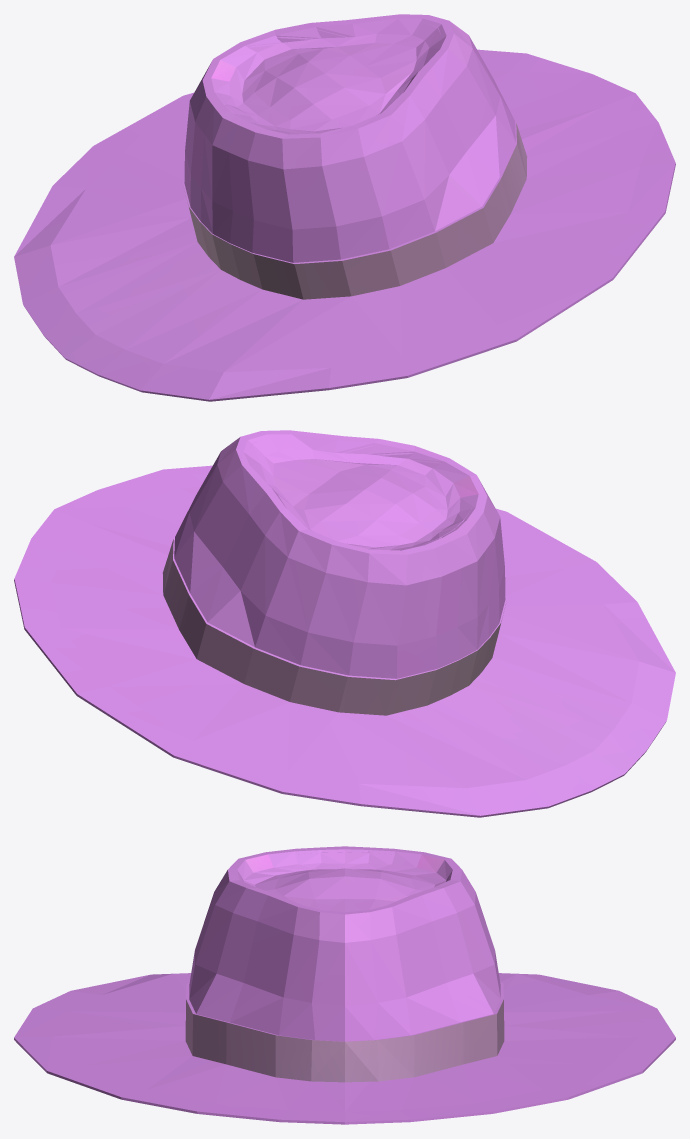
File: WHITE FEDORA.fbx
3 renders of one model, top to bottom at view 1: azimuth 30°, elevation 25°; view 2: azimuth 150°, elevation 25°; view 3: azimuth 270°, elevation 25°, orthographic.
Visible parts, largest first — view 1: WHITE_FEDORA; view 2: WHITE_FEDORA; view 3: WHITE_FEDORA.
Part boxes in pixels (x1=…): WHITE_FEDORA: x1=14, y1=14, x2=675, y2=401; WHITE_FEDORA: x1=14, y1=430, x2=675, y2=817; WHITE_FEDORA: x1=14, y1=846, x2=675, y2=1124.
Bounding box in the file's own units: 49.15 × 20.19 × 49.64.
